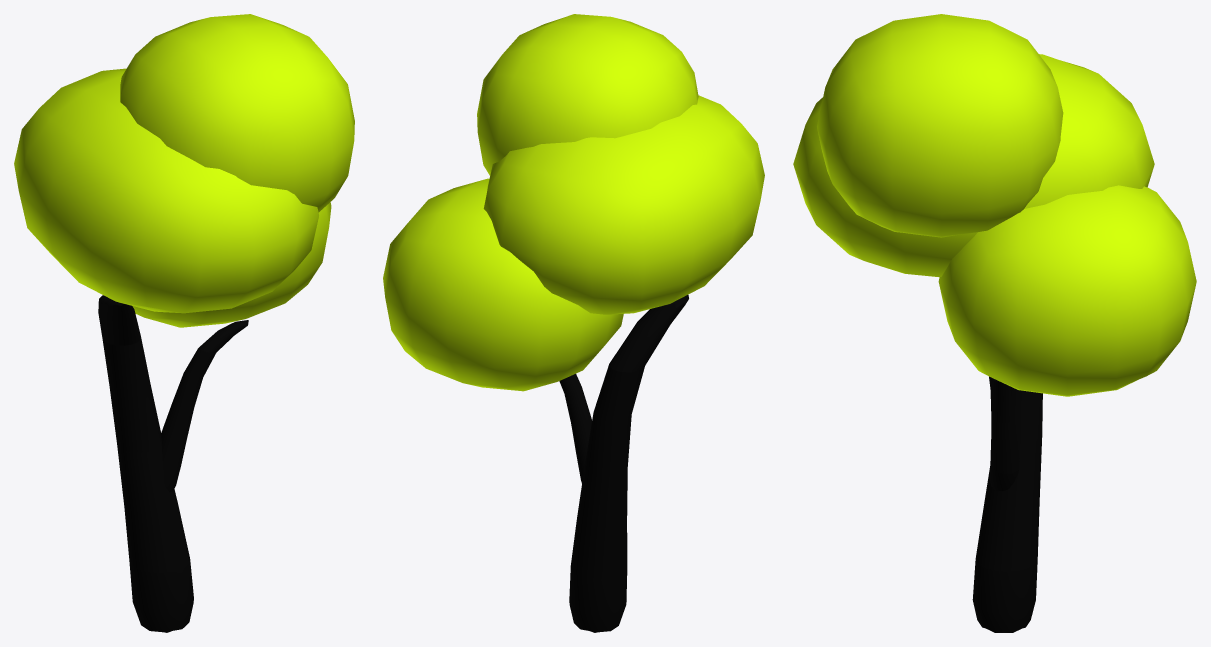
The model's file is tree.fbx.
3 renders of one model, left to right at view 1: azimuth 30°, elevation 25°; view 2: azimuth 150°, elevation 25°; view 3: azimuth 270°, elevation 25°, orthographic. The views are drawn at different scales.
Parts seen in each view (by area): view 1: foliage:tree; view 2: foliage:tree; view 3: foliage:tree.
Boxes of the visible parts, box(x1,y1,x2,y2) form: foliage:tree: box(14, 14, 354, 632); foliage:tree: box(383, 14, 764, 632); foliage:tree: box(793, 14, 1196, 632).
Bounding box in the file's own units: 0.3371 × 0.6327 × 0.3699.
